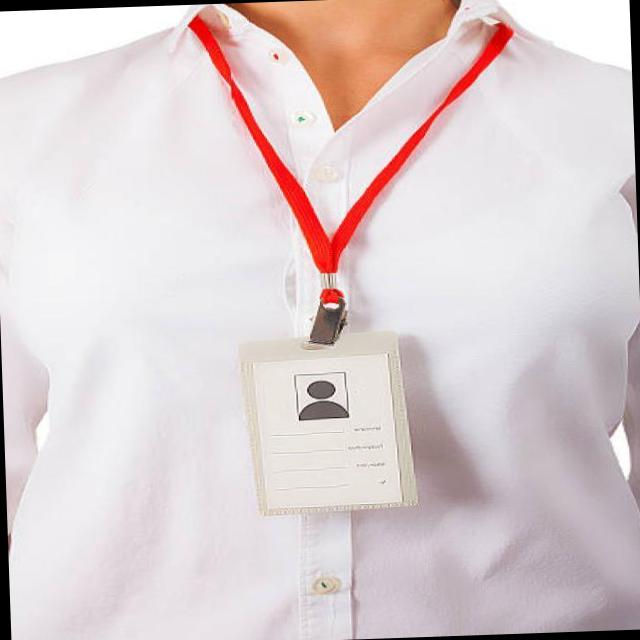id_card: (192, 1, 520, 526)
